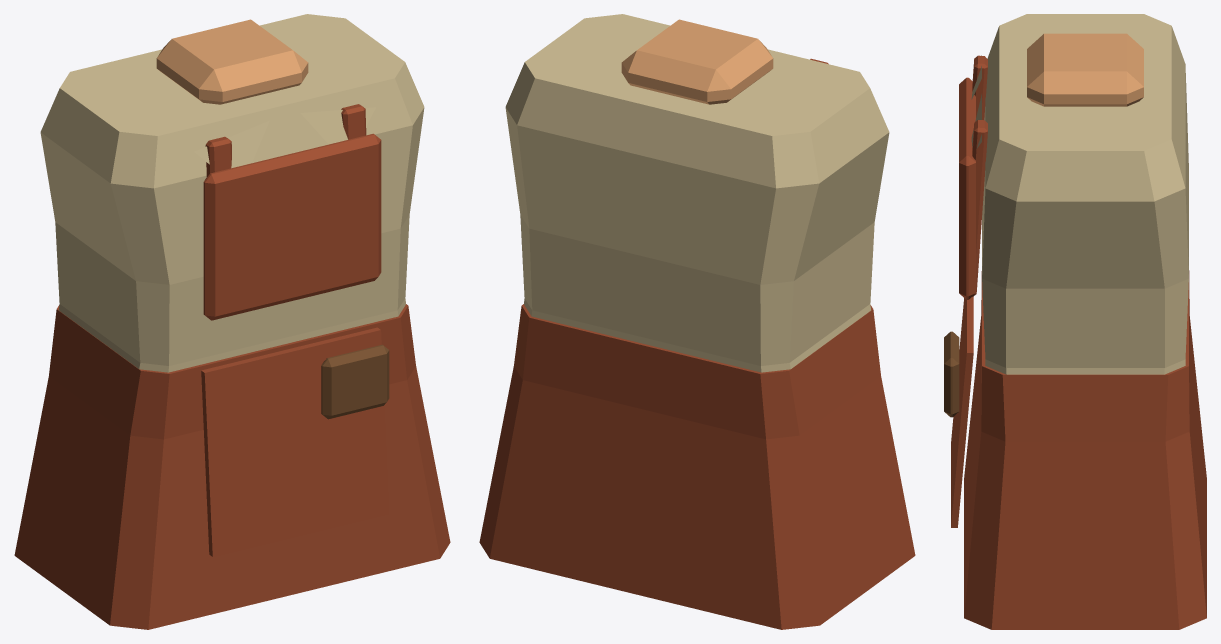
File: SM_NPC_Torso_06_Healer.glb
The picture shows the model from 3 angles, left to right: view 1: azimuth 30°, elevation 25°; view 2: azimuth 150°, elevation 25°; view 3: azimuth 270°, elevation 25°; orthographic projection.
Visible parts, largest first — view 1: SM_NPC_Torso_06_Healer; view 2: SM_NPC_Torso_06_Healer; view 3: SM_NPC_Torso_06_Healer.
Boxes of the visible parts, x1,y1,x2,y2 form: SM_NPC_Torso_06_Healer: (14, 14, 450, 629); SM_NPC_Torso_06_Healer: (479, 14, 915, 629); SM_NPC_Torso_06_Healer: (944, 14, 1206, 629).
Size of the model in its own units: 0.56 by 0.793 by 0.381.
